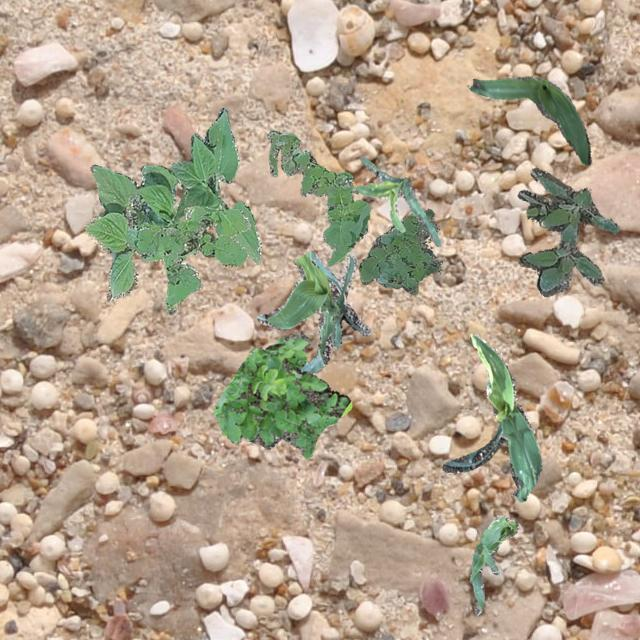crop: (84, 106, 260, 300), (442, 332, 540, 500), (256, 250, 370, 372), (468, 76, 590, 164), (350, 156, 440, 246), (468, 514, 516, 614)
weed: (212, 332, 350, 458), (266, 130, 370, 264), (516, 167, 618, 296), (126, 208, 250, 314), (358, 208, 440, 294)
